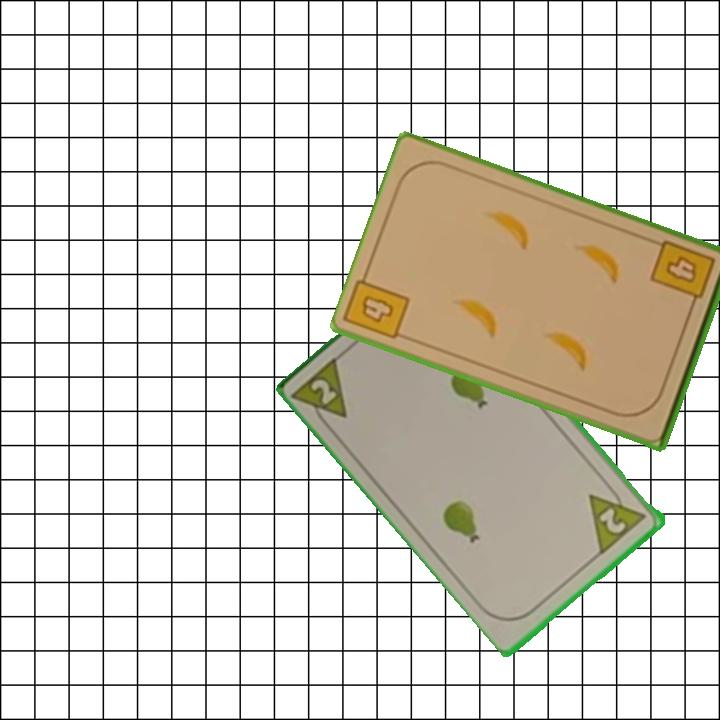2p: (290, 351, 352, 435), (596, 504, 630, 537)
4b: (647, 236, 718, 314), (357, 291, 397, 327)
